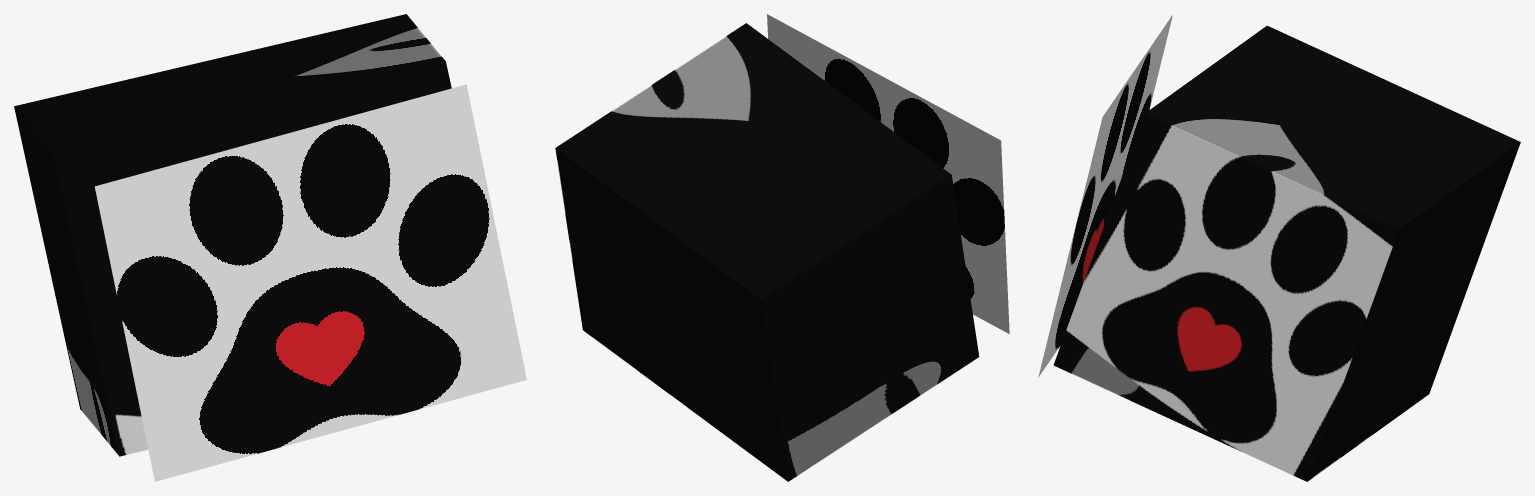
The model's file is pata.glb.
3 views of the same model, side by side, from view 1: azimuth 30°, elevation 25°; view 2: azimuth 150°, elevation 25°; view 3: azimuth 270°, elevation 25° (orthographic). The views are drawn at different scales.
Visible parts, largest first — view 1: mesh_id50, mesh_id35; view 2: mesh_id35, mesh_id50; view 3: mesh_id35, mesh_id50.
Boxes of the visible parts, bbox=[...] form: mesh_id50: bbox=[94, 84, 526, 481]; mesh_id35: bbox=[14, 14, 451, 456]; mesh_id35: bbox=[555, 23, 979, 481]; mesh_id50: bbox=[767, 14, 1009, 333]; mesh_id35: bbox=[1053, 25, 1520, 481]; mesh_id50: bbox=[1038, 15, 1172, 377].
Bounding box in the file's own units: 0.4741 × 0.4123 × 0.4829.
Materials: 3 (3 with a texture image).
